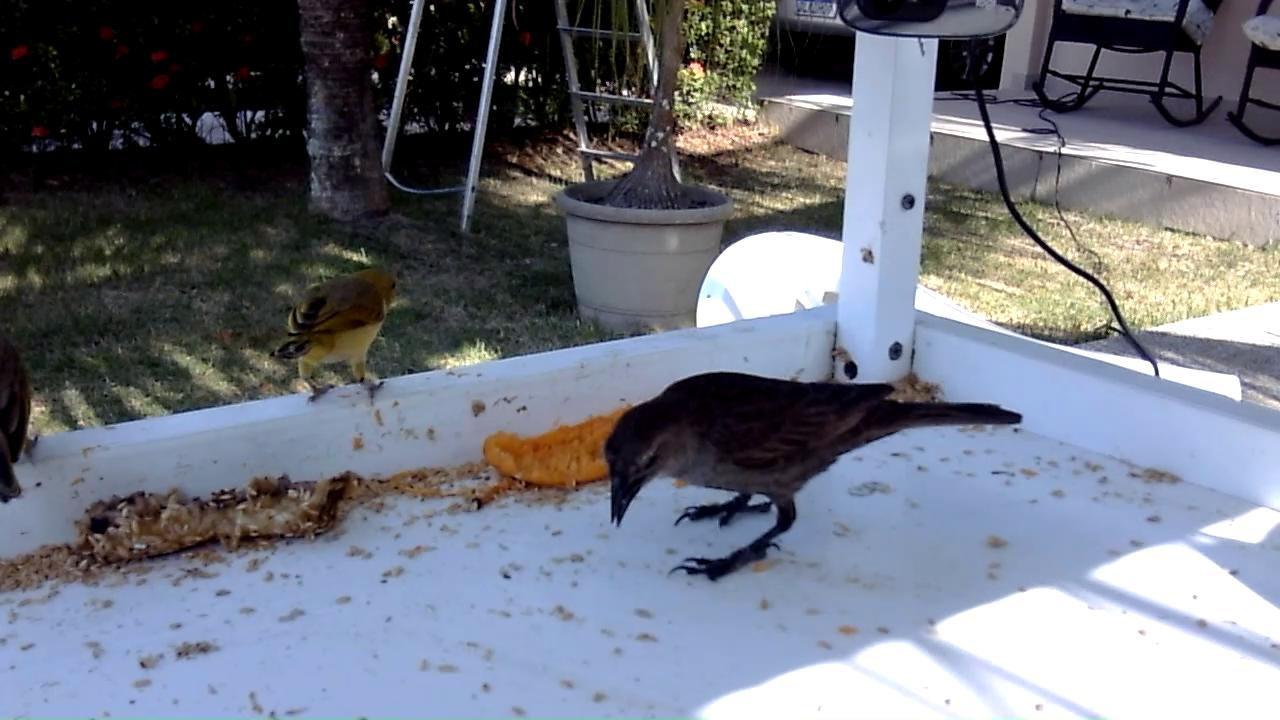canario_do_amazonas: (268, 265, 403, 411), (1, 332, 41, 511)
chupim: (600, 369, 1028, 588)
